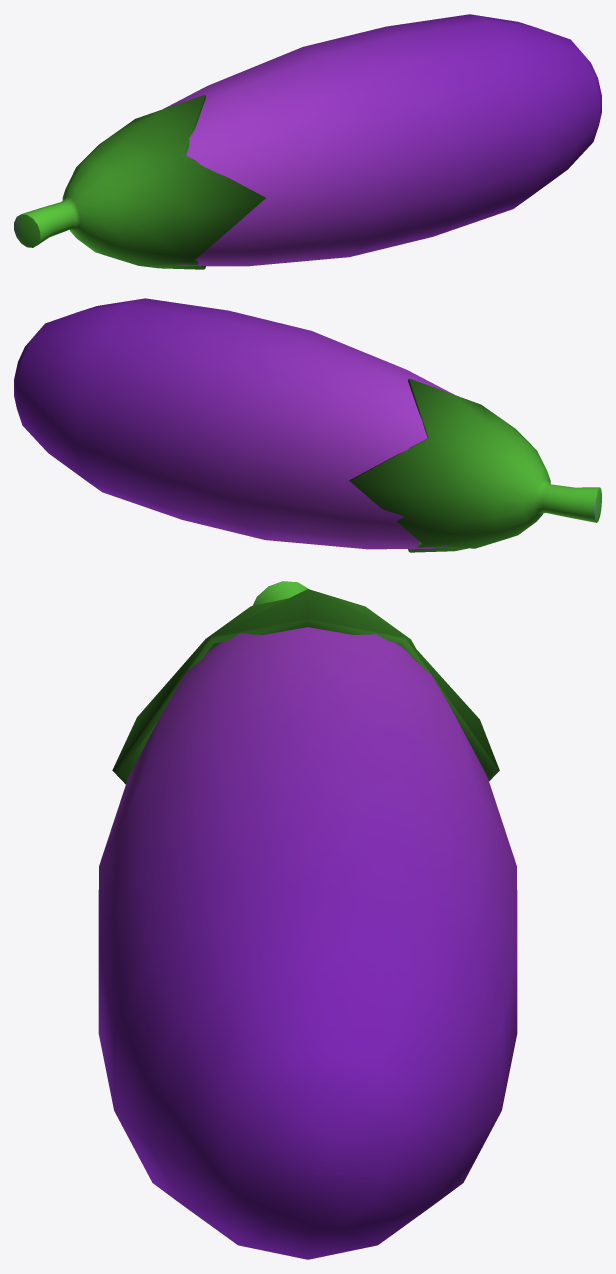
File: Eggplant.fbx
3 views of the same model, one above another, from view 1: azimuth 30°, elevation 25°; view 2: azimuth 150°, elevation 25°; view 3: azimuth 270°, elevation 25° (orthographic). The views are drawn at different scales.
Parts seen in each view (by area): view 1: Eggplant; view 2: Eggplant; view 3: Eggplant.
Part boxes in pixels (x1,y1,x2,y2): Eggplant: [14, 14, 601, 269]; Eggplant: [14, 298, 601, 552]; Eggplant: [98, 581, 517, 1259].
Size of the model in its own units: 1.29 by 0.4194 by 0.4089.
Materials: 1 (1 with a texture image).
